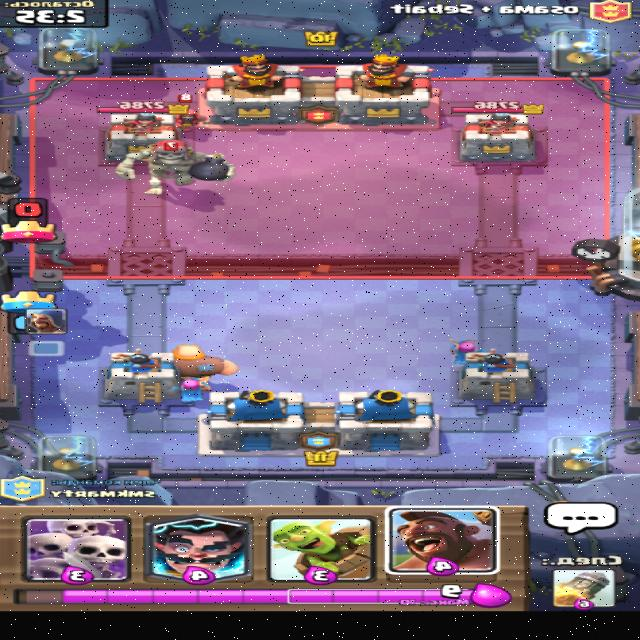Enemy-GiantSkeleton: (115, 139, 239, 195)
Enemy-Wizard: (174, 93, 209, 131)
Player-Archer: (447, 339, 487, 364), (177, 375, 211, 403)
Player-Giant: (173, 344, 242, 377)
